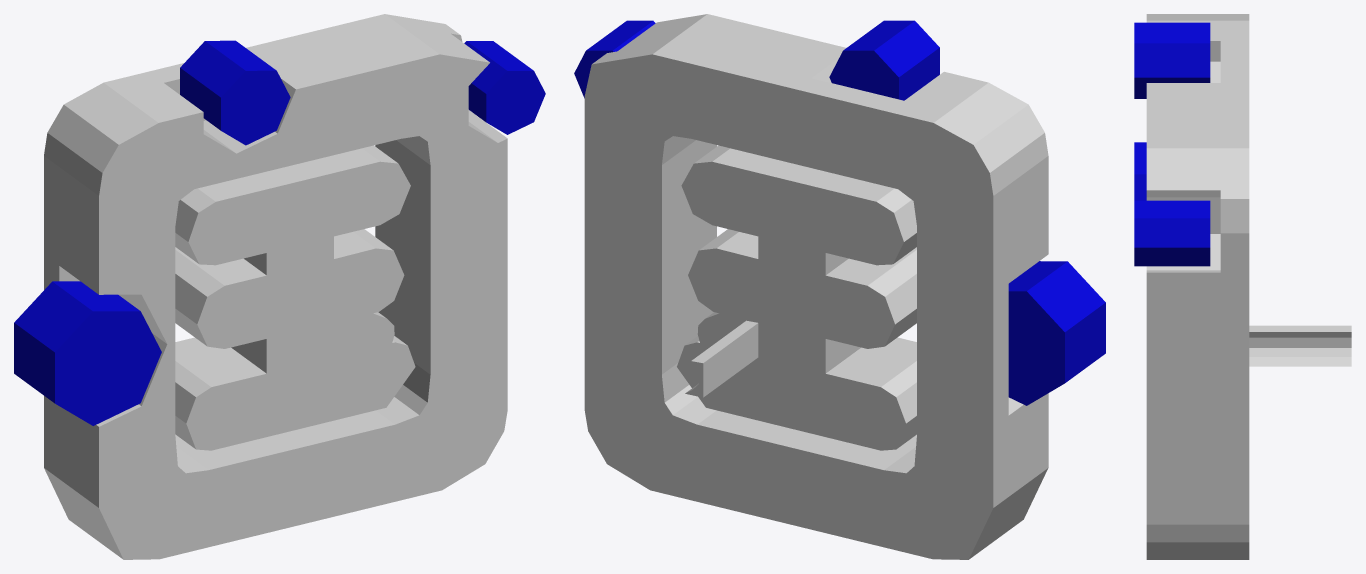
The model's file is Ch_Lite_China_国_01.fbx.
3 renders of one model, left to right at view 1: azimuth 30°, elevation 25°; view 2: azimuth 150°, elevation 25°; view 3: azimuth 270°, elevation 25°, orthographic. The views are drawn at different scales.
Parts seen in each view (by area): view 1: sphere1; view 2: sphere1; view 3: sphere1.
Part boxes in pixels (x1,y1,x2,y2): sphere1: [14, 14, 545, 559]; sphere1: [574, 14, 1105, 559]; sphere1: [1134, 14, 1351, 559].
Size of the model in its own units: 1.03 by 0.9477 by 0.4242.
